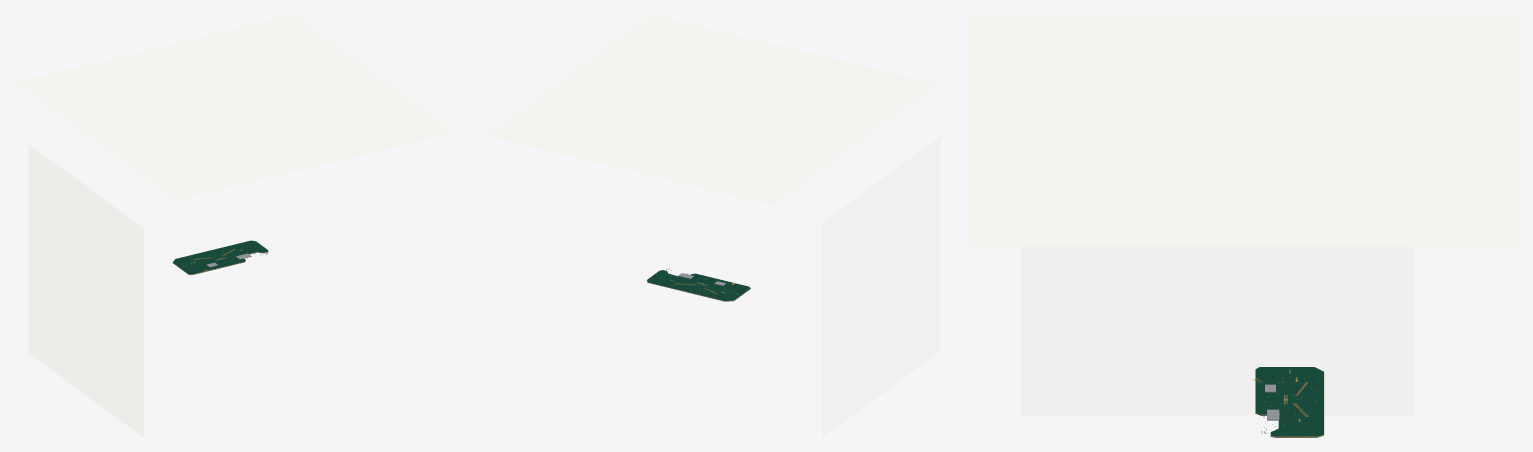
Rendered from B02_MAINBOARD_LOD1.glb.
3 views of the same model, side by side, from view 1: azimuth 30°, elevation 25°; view 2: azimuth 150°, elevation 25°; view 3: azimuth 270°, elevation 25° (orthographic). The views are drawn at different scales.
Parts seen in each view (by area): view 1: CG_CARD_TOP, CG_CARD_SIDE, B02_BOARD_MASK_TOP; view 2: CG_CARD_TOP, CG_CARD_SIDE, B02_BOARD_MASK_TOP; view 3: CG_CARD_TOP, CG_CARD_SIDE, B02_BOARD_MASK_TOP.
Part boxes in pixels (box(x1,y1,x2,y2)): CG_CARD_TOP: box(15, 14, 455, 200); CG_CARD_SIDE: box(28, 144, 144, 437); B02_BOARD_MASK_TOP: box(173, 240, 268, 274); CG_CARD_TOP: box(486, 14, 938, 205); CG_CARD_SIDE: box(822, 136, 940, 437); B02_BOARD_MASK_TOP: box(647, 270, 750, 300); CG_CARD_TOP: box(969, 14, 1518, 246); CG_CARD_SIDE: box(1021, 246, 1414, 415); B02_BOARD_MASK_TOP: box(1255, 367, 1323, 436).
Size of the model in its own units: 423 by 332 by 399.
